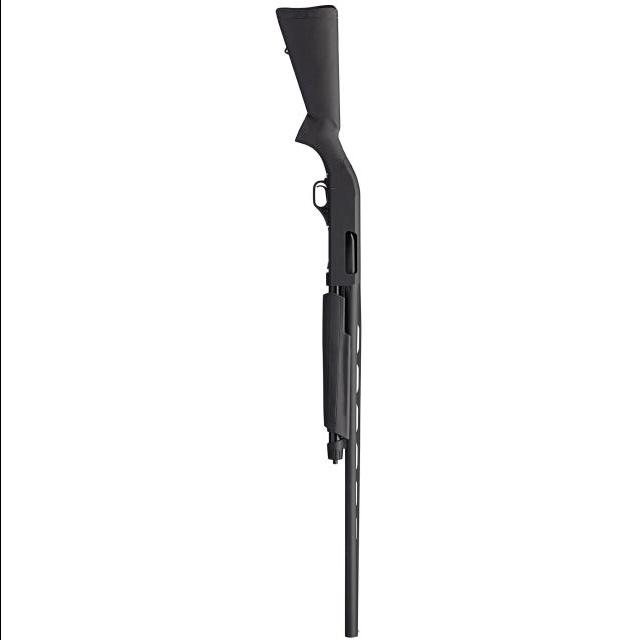shotgun: (265, 3, 381, 640)
